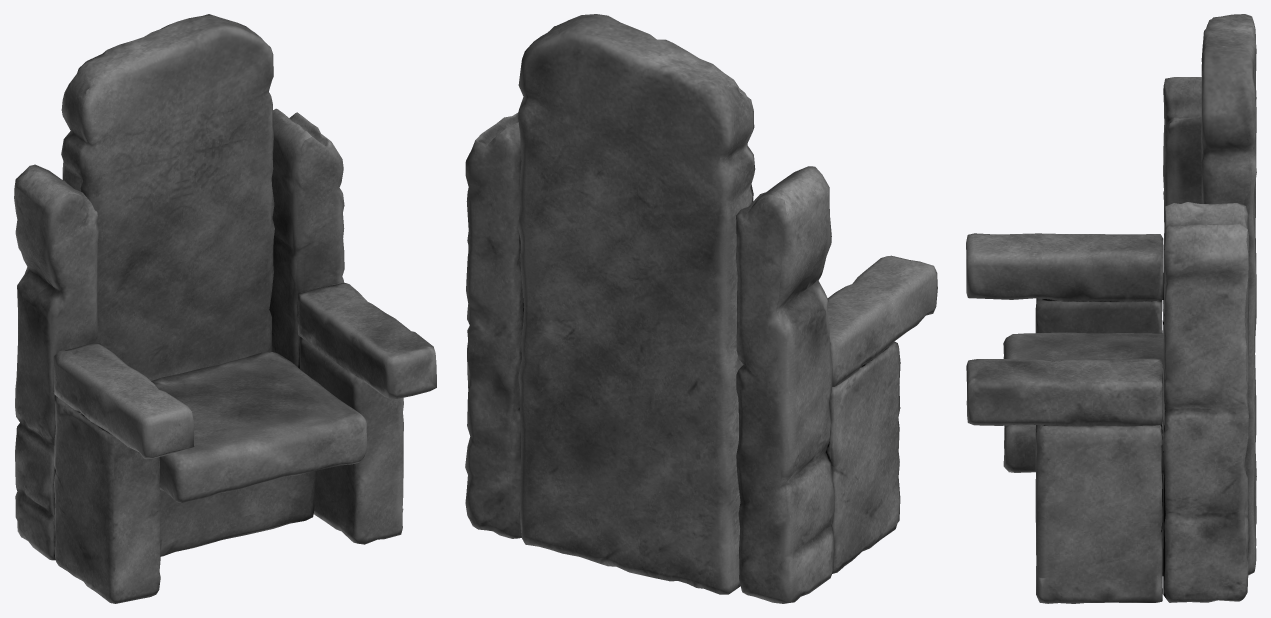
The model's file is Trono_010.fbx.
3 views of the same model, side by side, from view 1: azimuth 30°, elevation 25°; view 2: azimuth 150°, elevation 25°; view 3: azimuth 270°, elevation 25° (orthographic). The views are drawn at different scales.
Visible parts, largest first — view 1: Trono_RT; view 2: Trono_RT; view 3: Trono_RT.
Boxes of the visible parts, <box> form: Trono_RT: <box>14,14,436,603</box>; Trono_RT: <box>465,14,937,603</box>; Trono_RT: <box>966,14,1256,603</box>.
Bounding box in the file's own units: 128 × 197 × 104.
